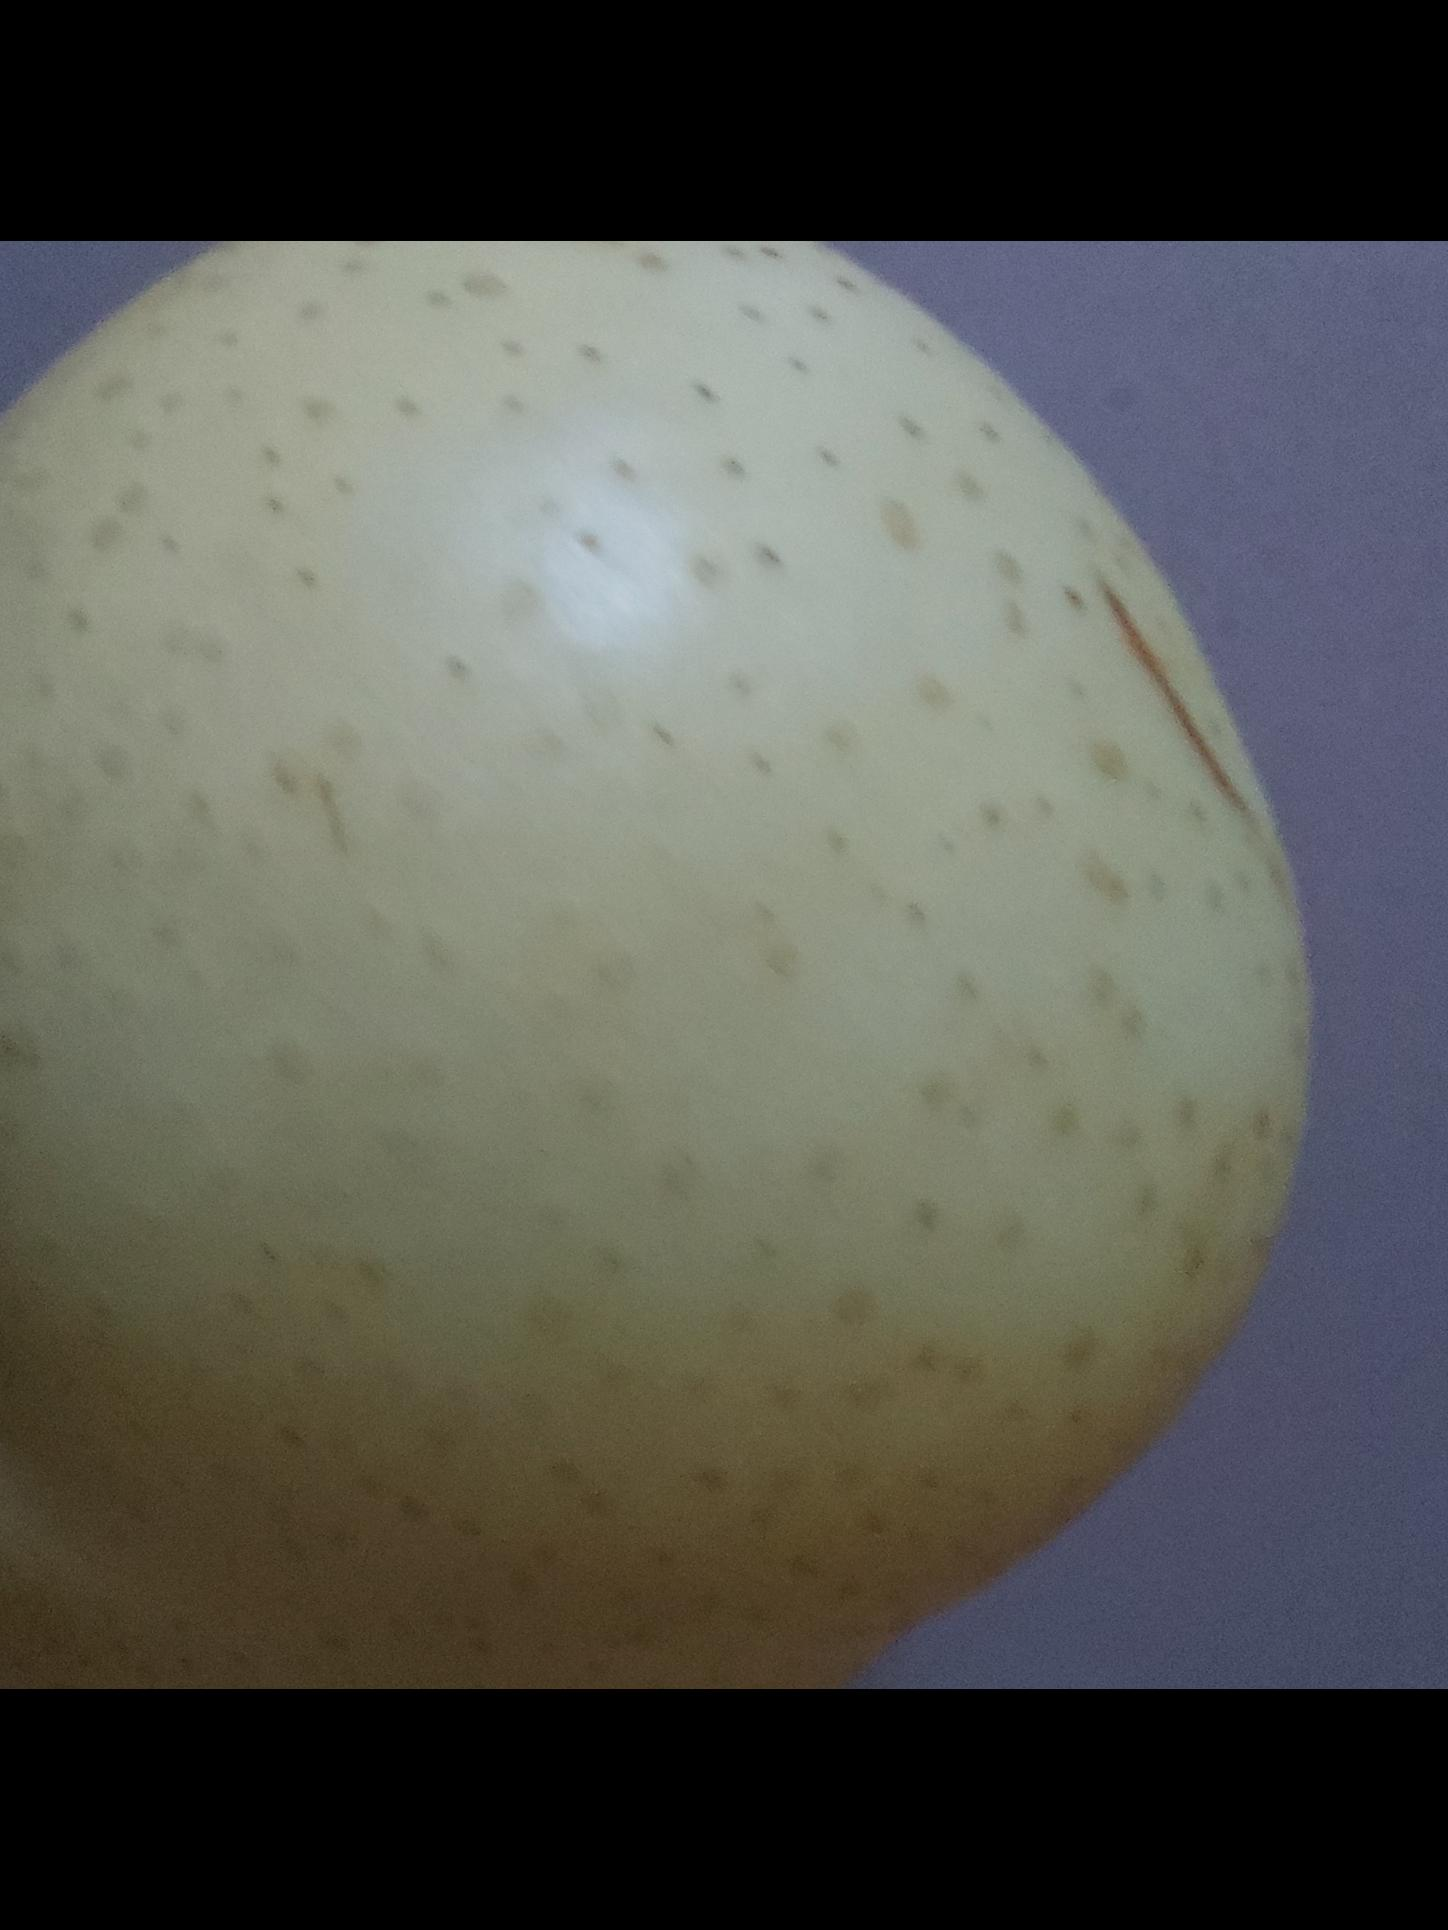Good Pear: (0, 240, 1373, 1690)
